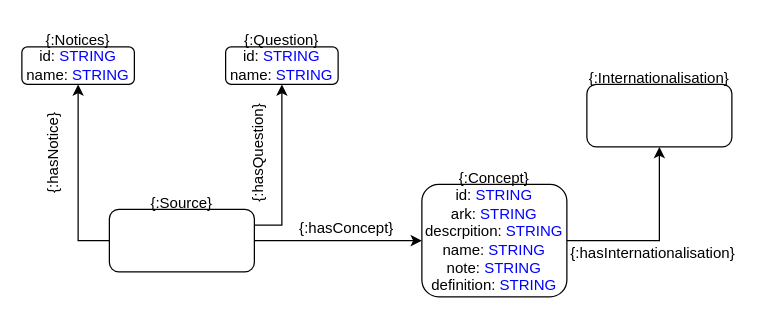
The diagram is 769 pixels wide and 319 high, and some of its shapes have lost their labels. Each missing label, with the centre of its shape:
id: STRING value: STRING descrpition: STRING: (x=181, y=240)
id: STRING value: STRING lang: STRING: (x=659, y=115)
